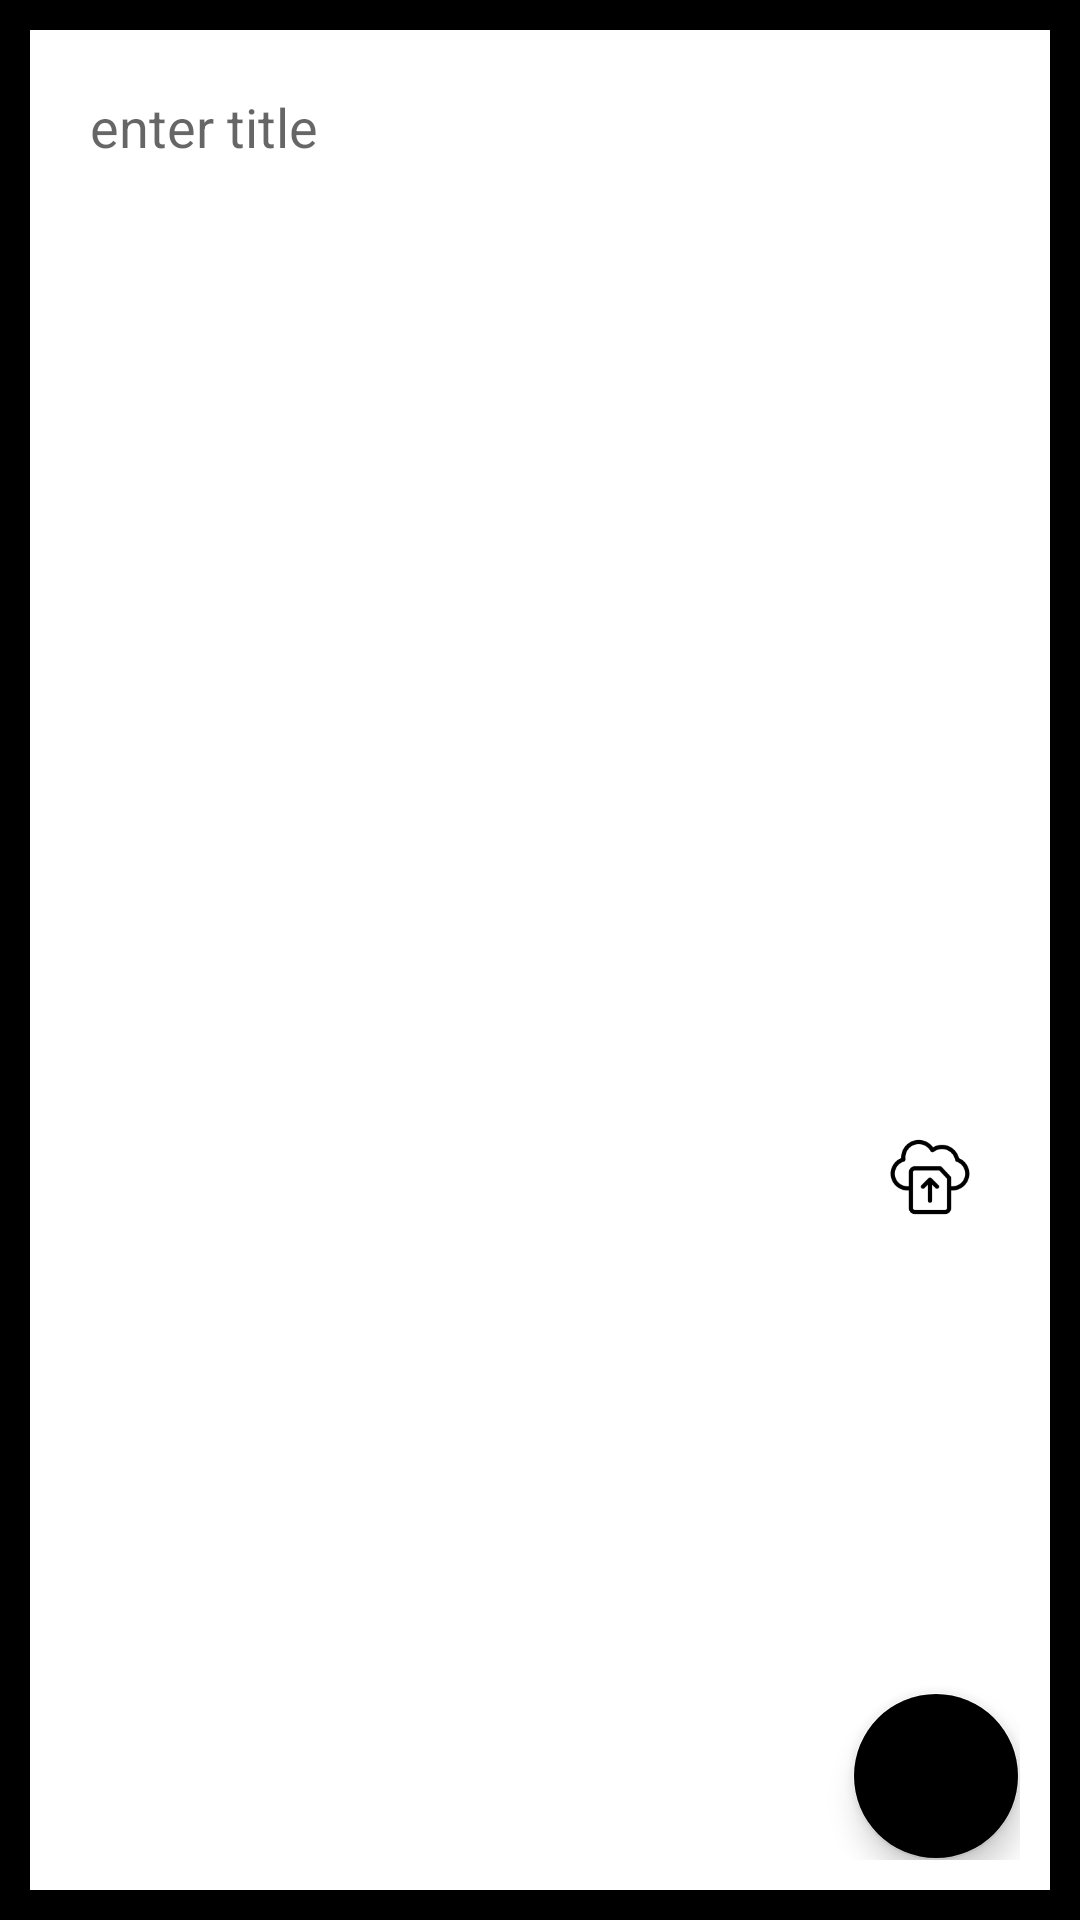

Screen size 1080px×1920px. Icon name, then its center in pixels as point (x, y):
upload: point (930, 1177)
